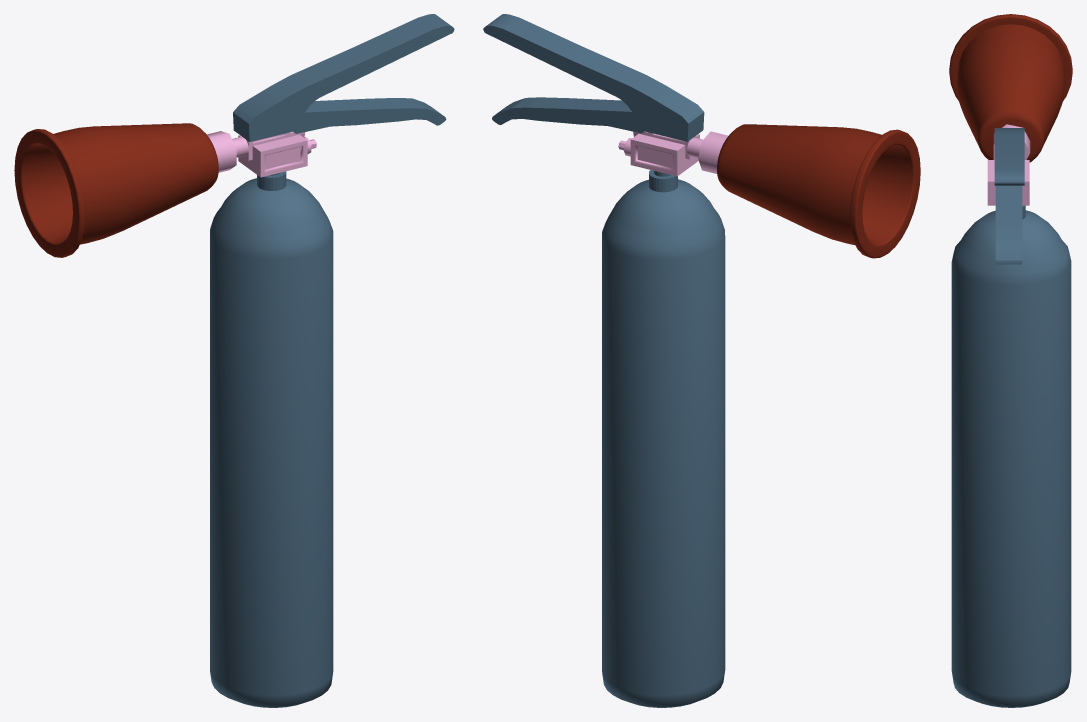
The model's file is N_Extinguisher.fbx.
The picture shows the model from 3 angles, left to right: view 1: azimuth 30°, elevation 25°; view 2: azimuth 150°, elevation 25°; view 3: azimuth 270°, elevation 25°; orthographic projection. The views are drawn at different scales.
Parts seen in each view (by area): view 1: Object002; view 2: Object002; view 3: Object002.
Boxes of the visible parts, bbox=[...] form: Object002: bbox=[14, 14, 454, 707]; Object002: bbox=[483, 14, 920, 707]; Object002: bbox=[949, 14, 1072, 707].
Bounding box in the file's own units: 33.82 × 51.05 × 9.64.
